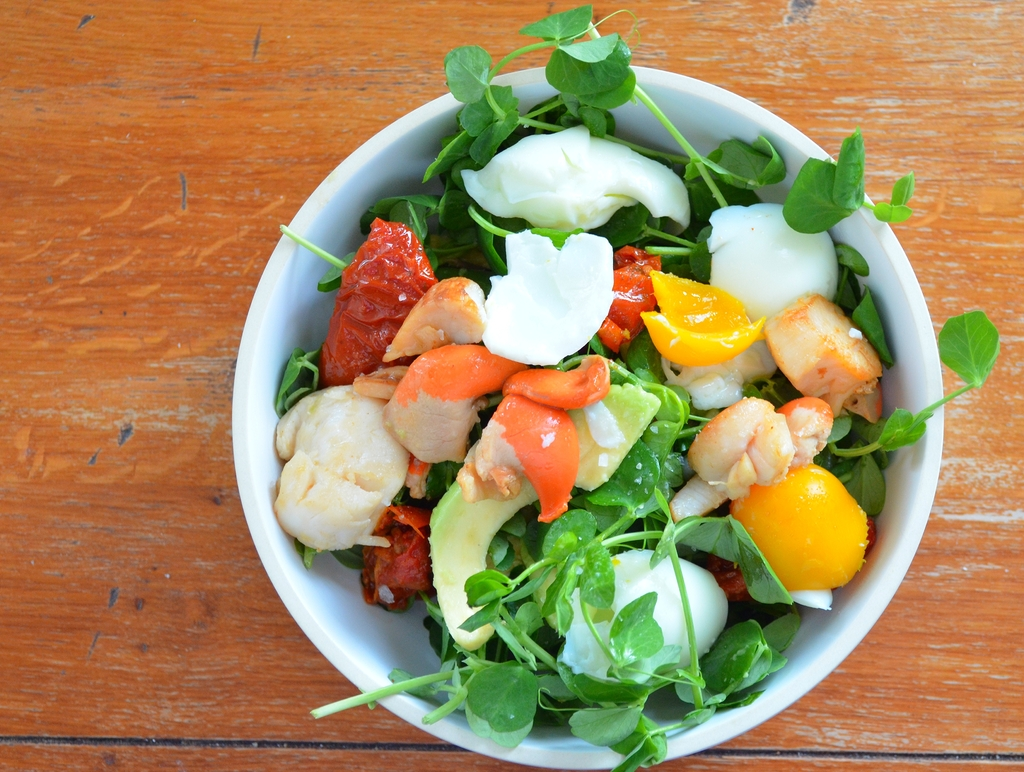salad: (275, 4, 1002, 771)
